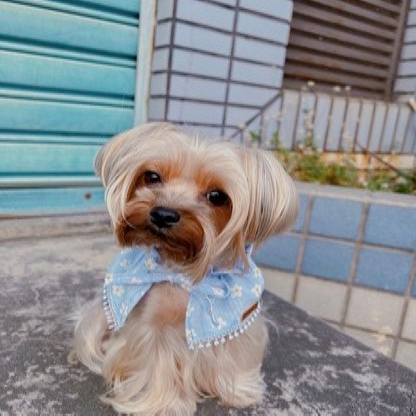yorkshire: (72, 122, 299, 416)
